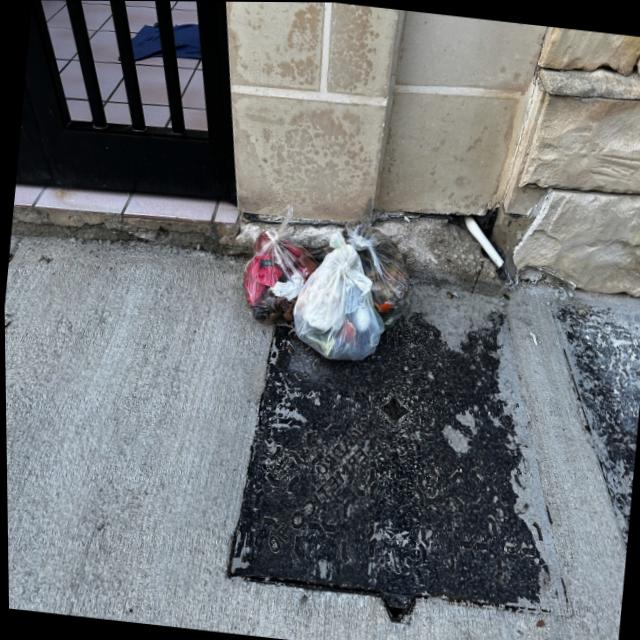Organic Waste -White Bags-: (240, 203, 409, 360)
